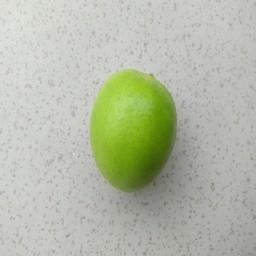Good_lime: (87, 64, 181, 195)
